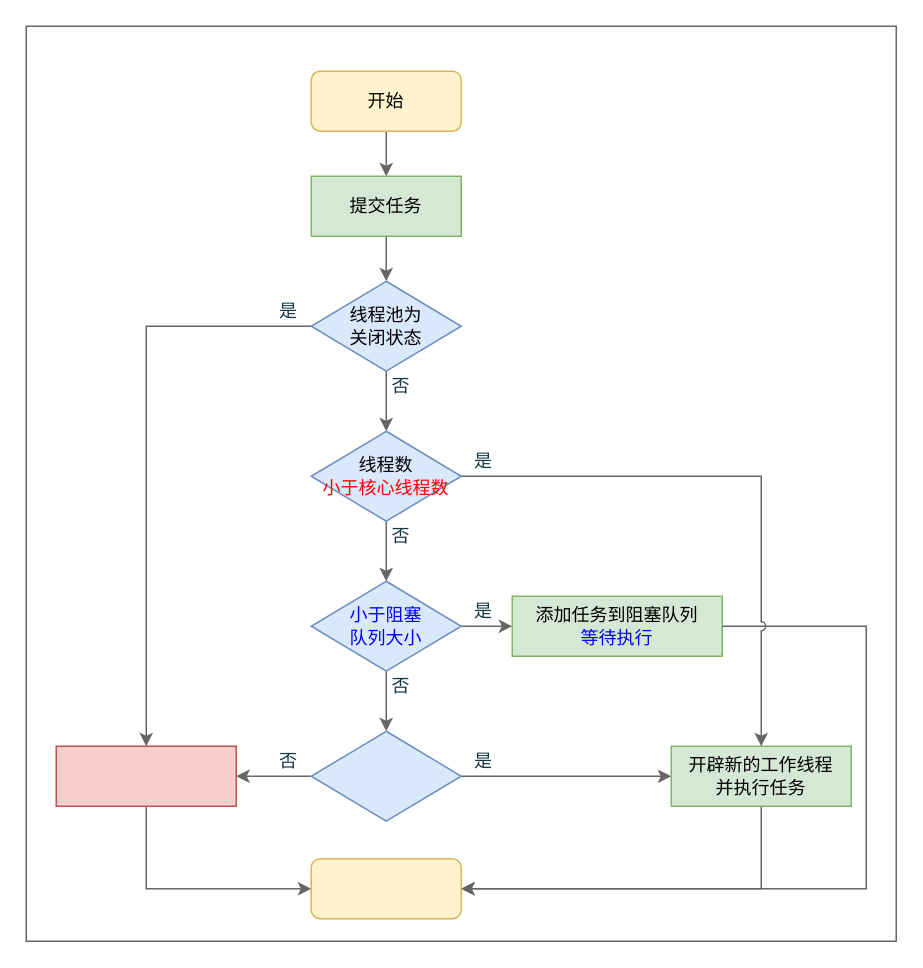
Image size: 923x968. Some labels were removed from this diagram. Each missing label, with the box of its shape:
执行拒绝任务策略: (55, 745, 236, 806)
线程数 小于最大线程数: (310, 730, 461, 821)
结束: (310, 857, 461, 919)
